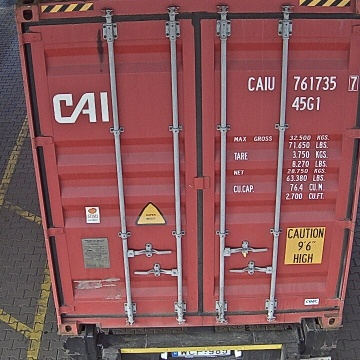serial_id: (248, 75, 358, 90)
